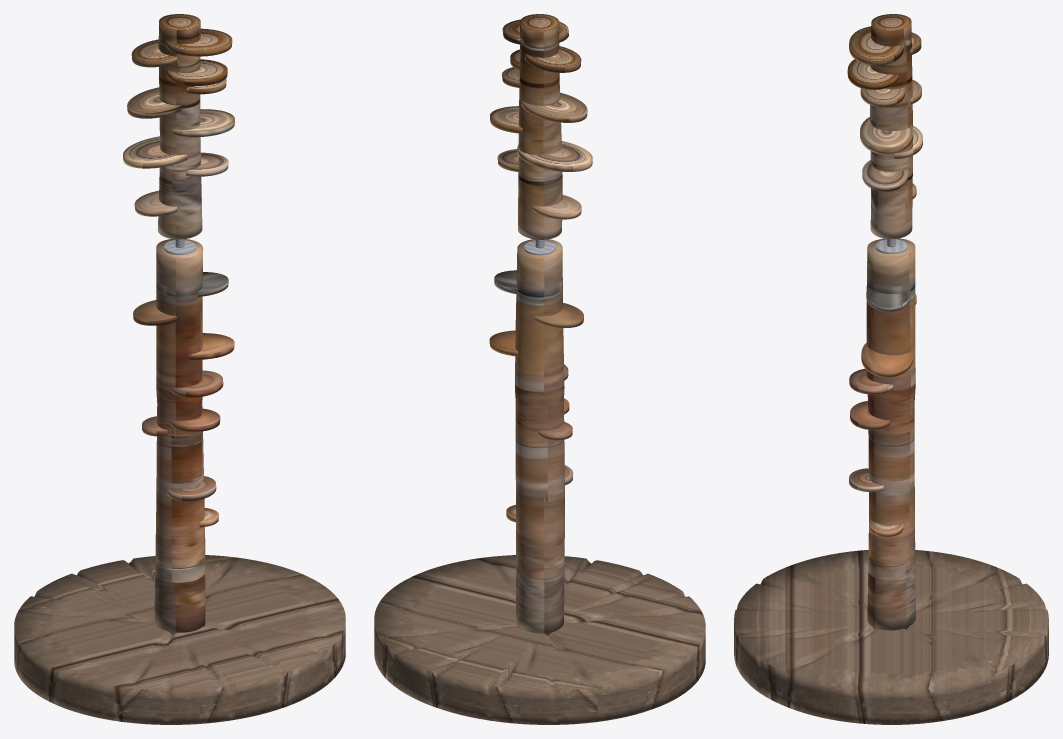
Rendered from hy3d-esc-045.glb.
3 views of the same model, side by side, from view 1: azimuth 30°, elevation 25°; view 2: azimuth 150°, elevation 25°; view 3: azimuth 270°, elevation 25° (orthographic).
Parts seen in each view (by area): view 1: world; view 2: world; view 3: world.
Boxes of the visible parts, x1,y1,x2,y2 form: world: (14,14,345,724); world: (374,14,705,724); world: (734,14,1048,724).
Size of the model in its own units: 0.3249 by 0.6759 by 0.3054.
1 material, 1 textured.
